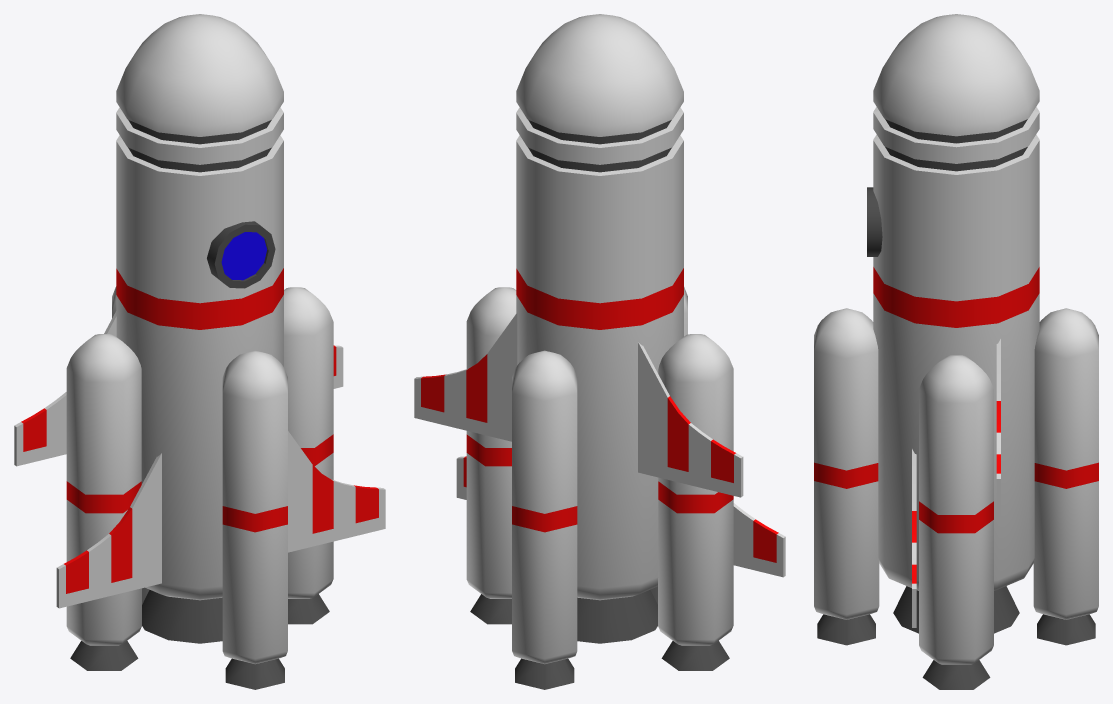
The model's file is Moonlander.fbx.
3 views of the same model, side by side, from view 1: azimuth 30°, elevation 25°; view 2: azimuth 150°, elevation 25°; view 3: azimuth 270°, elevation 25° (orthographic).
Visible parts, largest first — view 1: Moonlander; view 2: Moonlander; view 3: Moonlander.
Boxes of the visible parts, x1=… form: Moonlander: x1=14, y1=14, x2=385, y2=689; Moonlander: x1=414, y1=14, x2=785, y2=689; Moonlander: x1=814, y1=14, x2=1098, y2=689.
Bounding box in the file's own units: 47.7 × 86.16 × 36.24.
